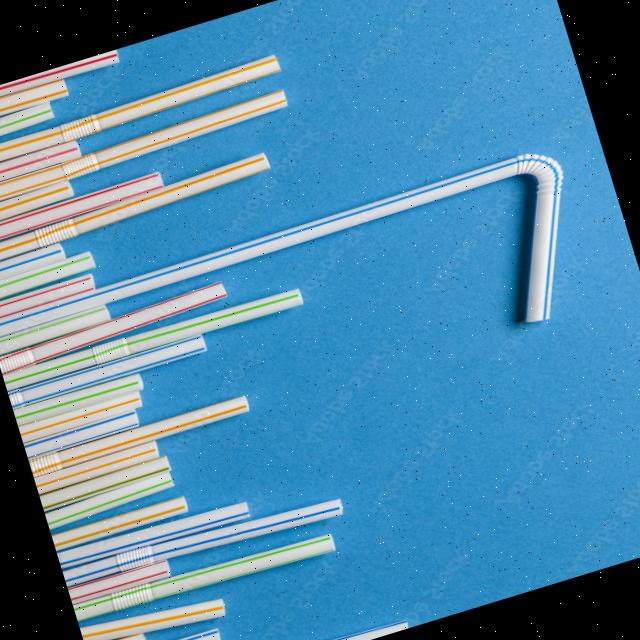plastic: (267, 97, 640, 414)
